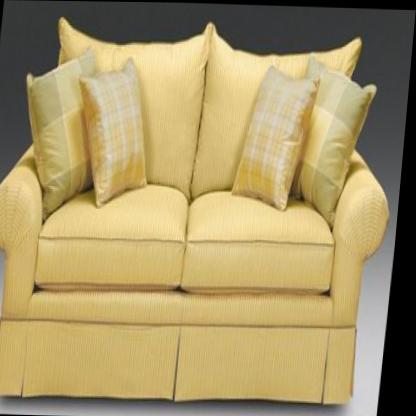Sofa: (0, 14, 406, 408)
